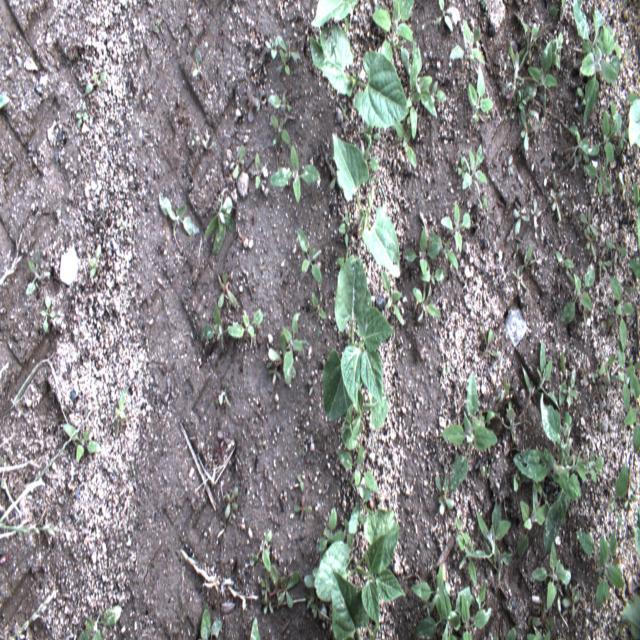crop: (317, 251, 396, 426), (309, 3, 412, 127), (329, 131, 401, 281), (313, 498, 396, 604), (353, 518, 409, 626), (331, 567, 376, 639)
weed: (515, 392, 612, 562), (0, 411, 96, 546), (438, 367, 499, 489), (317, 442, 381, 552), (572, 5, 625, 129), (582, 346, 638, 463), (408, 564, 494, 640), (401, 35, 453, 147), (453, 494, 516, 580), (508, 330, 554, 433), (340, 376, 392, 465), (517, 463, 561, 560), (530, 523, 576, 612), (576, 523, 620, 615), (264, 304, 306, 388), (394, 223, 444, 288), (272, 143, 320, 208), (566, 120, 602, 201), (605, 270, 635, 364), (200, 188, 238, 256), (558, 260, 596, 328), (445, 12, 491, 66), (371, 2, 419, 50), (62, 419, 106, 470), (379, 258, 406, 335), (439, 199, 476, 255), (598, 94, 624, 173), (463, 63, 500, 118), (200, 299, 245, 343), (294, 229, 328, 287), (526, 36, 561, 91), (76, 598, 123, 638), (155, 194, 200, 234), (512, 85, 540, 148), (557, 363, 582, 430), (267, 35, 303, 81), (412, 278, 446, 326), (458, 138, 487, 190), (627, 155, 638, 289), (505, 30, 524, 106), (239, 307, 270, 353), (427, 2, 464, 39), (27, 242, 49, 295), (197, 603, 228, 639), (276, 573, 300, 618), (225, 141, 248, 186), (252, 150, 272, 200), (265, 89, 298, 119), (612, 458, 636, 497), (546, 187, 564, 238), (334, 212, 358, 248), (254, 573, 276, 612), (270, 110, 292, 148), (583, 209, 604, 247), (511, 199, 532, 234), (258, 527, 272, 579), (40, 296, 55, 341), (223, 484, 242, 519), (552, 256, 575, 274)
